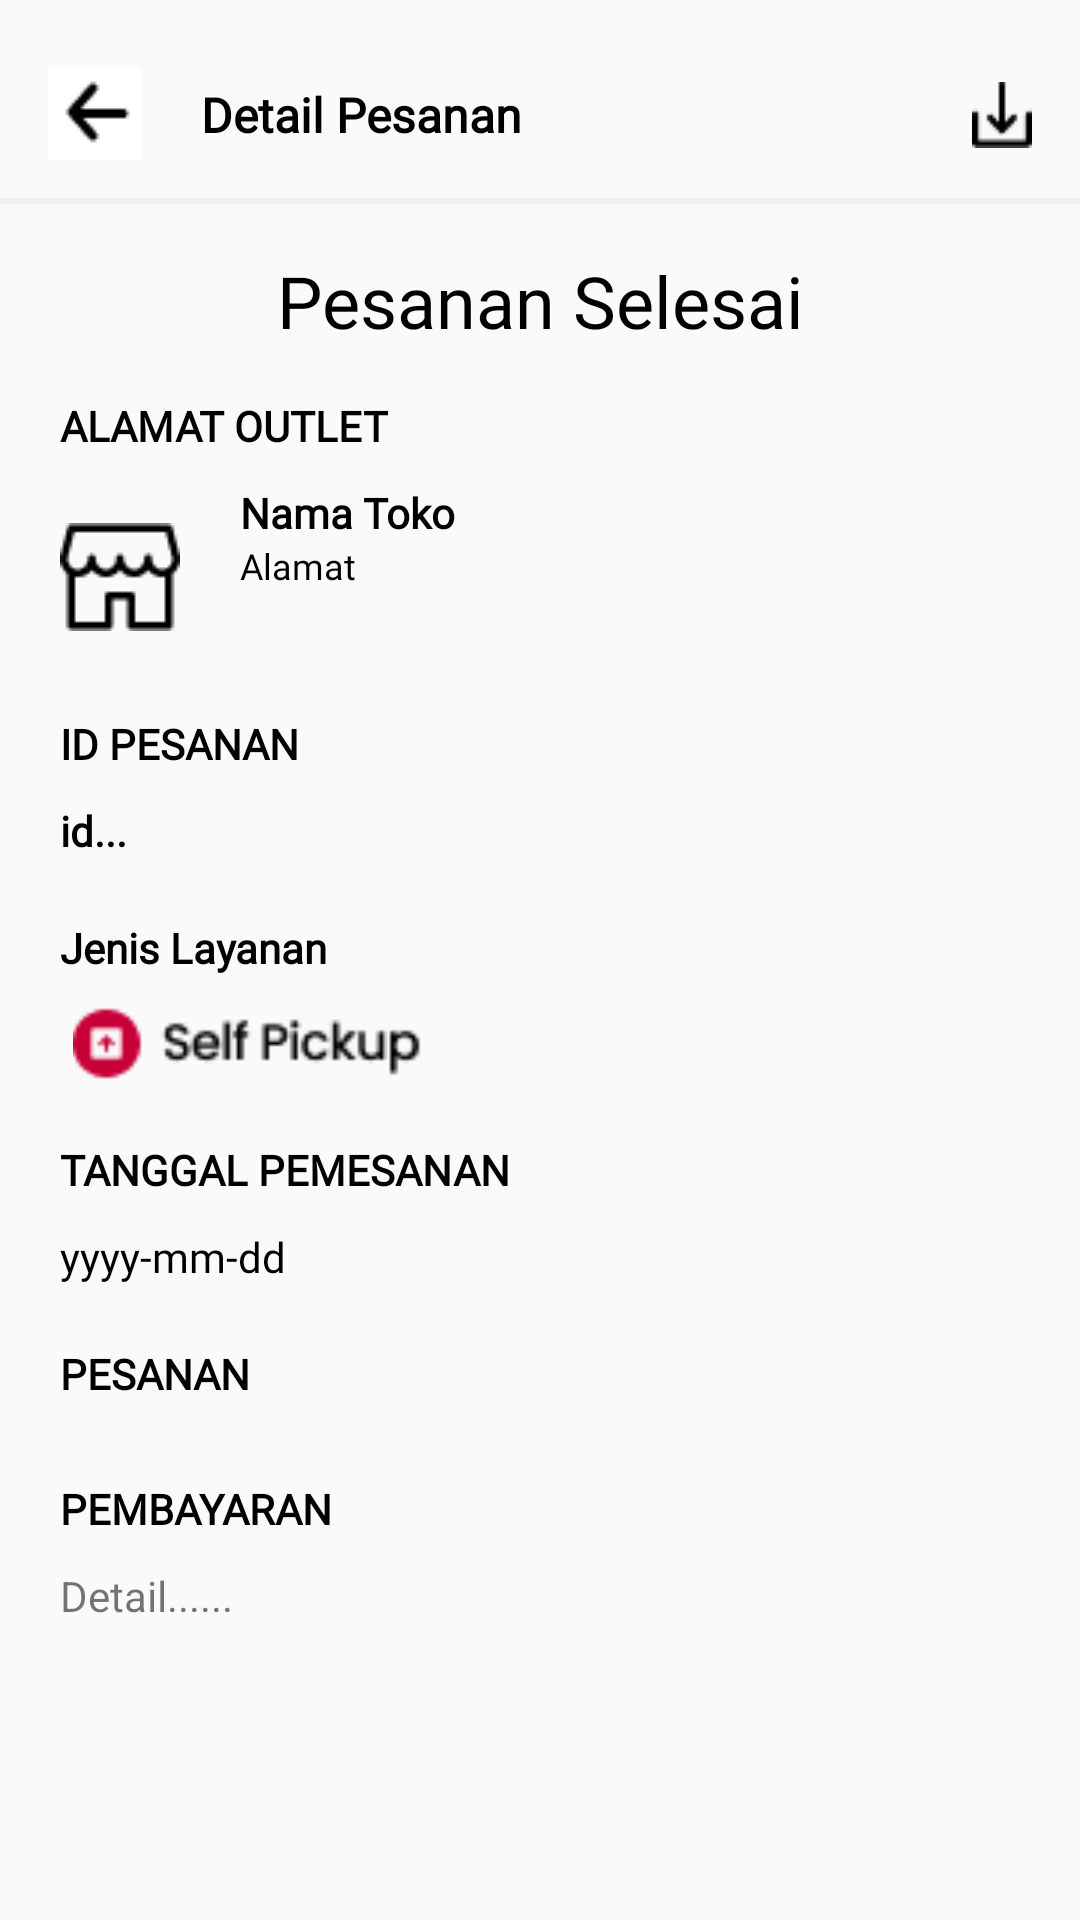

Screen size 1080×1920. Icon name, then its box in pixels as [x1=x1, y1=y1, x2=x2, y2=y2]:
back: [x1=65, y1=81, x2=130, y2=143]
unduh: [x1=972, y1=82, x2=1032, y2=148]
